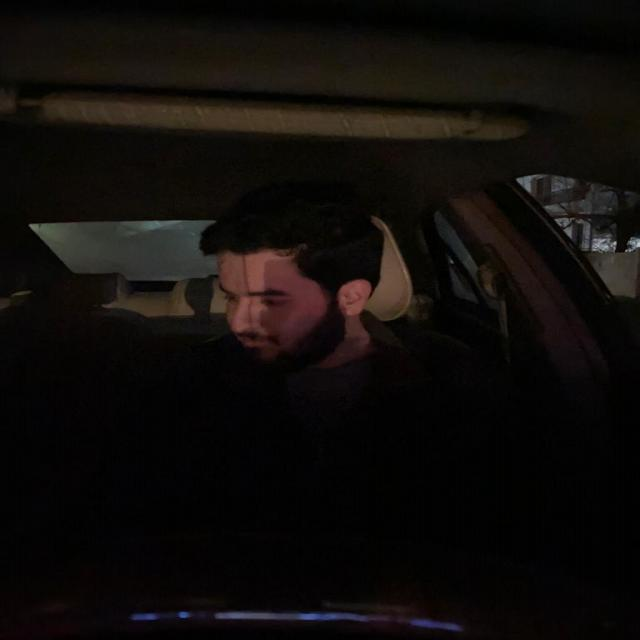person: (198, 195, 386, 369)
